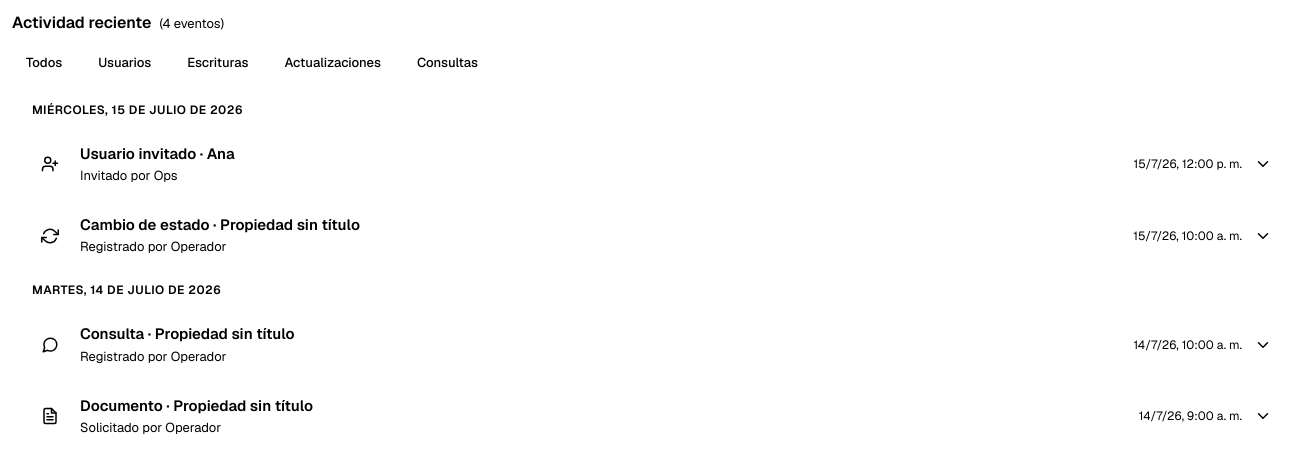
Test case: TenantActivityFeed — category filter › filtering by "Consultas" shows only INQUIRY movements
Click the button with test id "tenant-activity-filter-inquiry" at (448, 63), box [403,47,492,78]
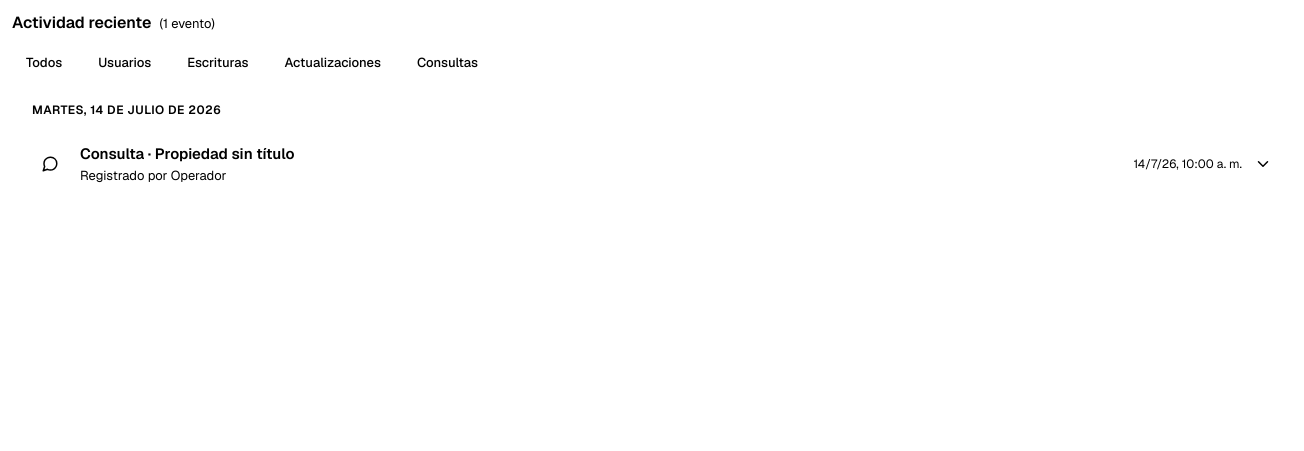
expect the list item with test id "tenant-activity-item-inquiry-1" is shown: met, box [12,128,1292,200]
expect the list item with test id "tenant-activity-item-update-1" is gone: met
